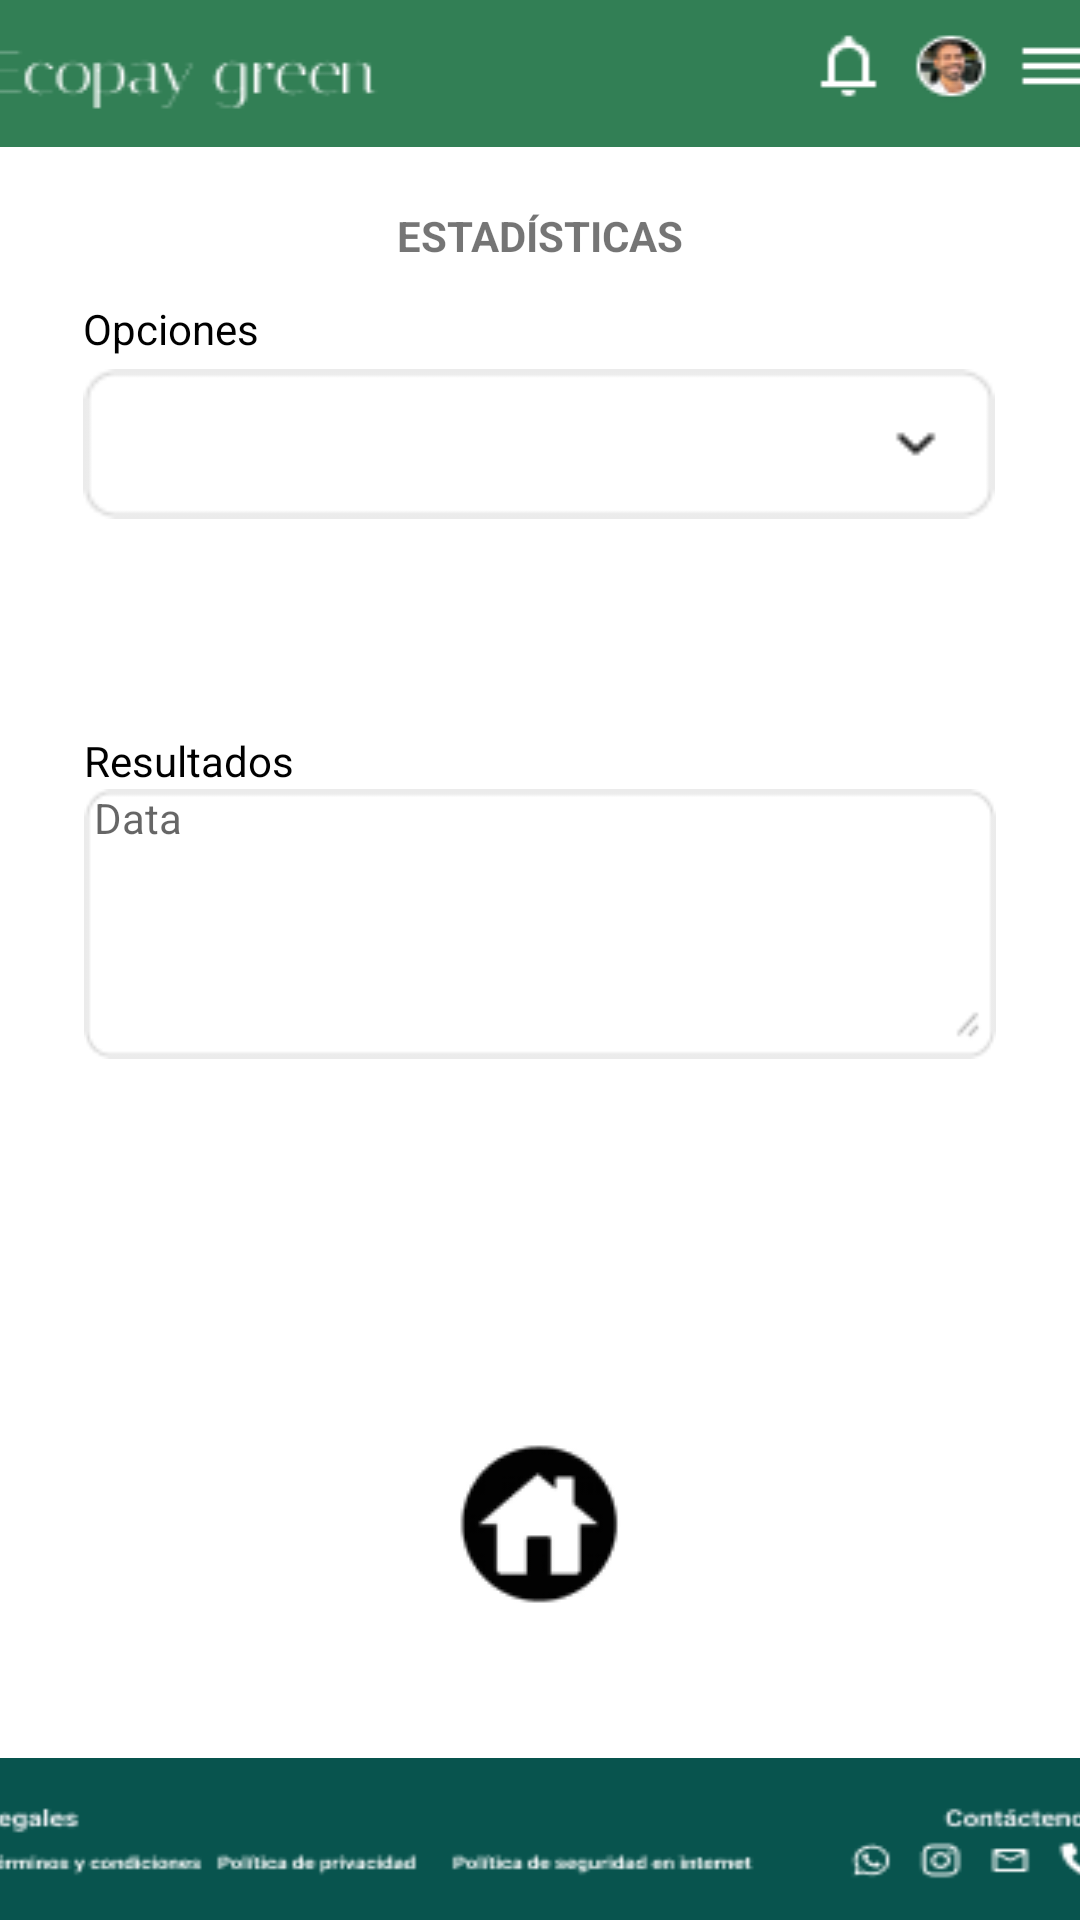

Named icons in this screenshot (1080×1920) and their centers, [x,y]:
homes: [539,1524]
